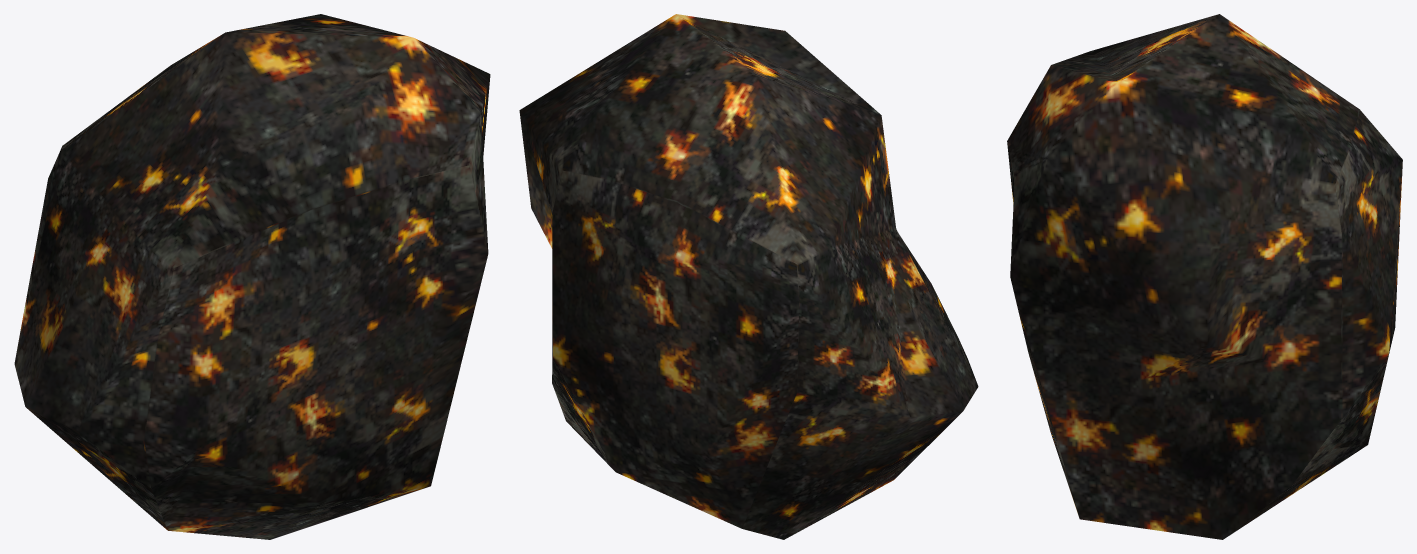
File: asteroid_moltenrock_small_s01_l2.fbx
3 renders of one model, left to right at view 1: azimuth 30°, elevation 25°; view 2: azimuth 150°, elevation 25°; view 3: azimuth 270°, elevation 25°, orthographic. The views are drawn at different scales.
Visible parts, largest first — view 1: mesh_node; view 2: mesh_node; view 3: mesh_node.
Part boxes in pixels (x1,y1,x2,y2): mesh_node: (14, 14, 490, 539); mesh_node: (519, 14, 978, 539); mesh_node: (1007, 14, 1402, 539).
Size of the model in its own units: 28.42 by 28.37 by 20.56.
Materials: 1 (1 with a texture image).
